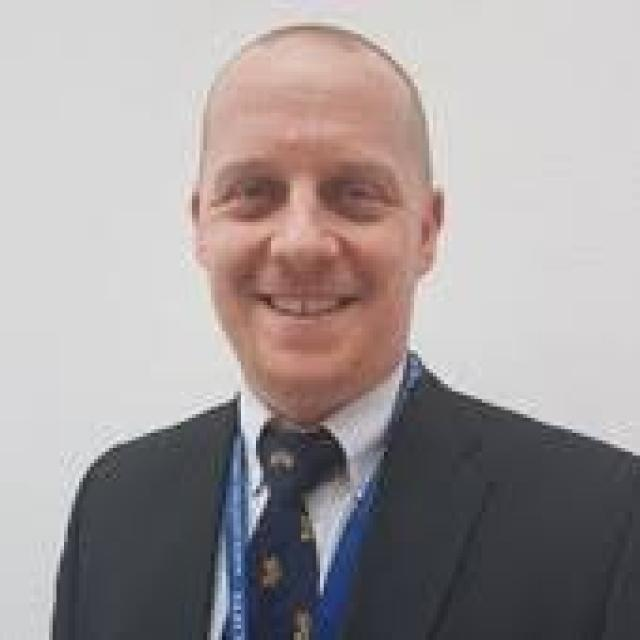normal_face: (214, 46, 432, 422)
